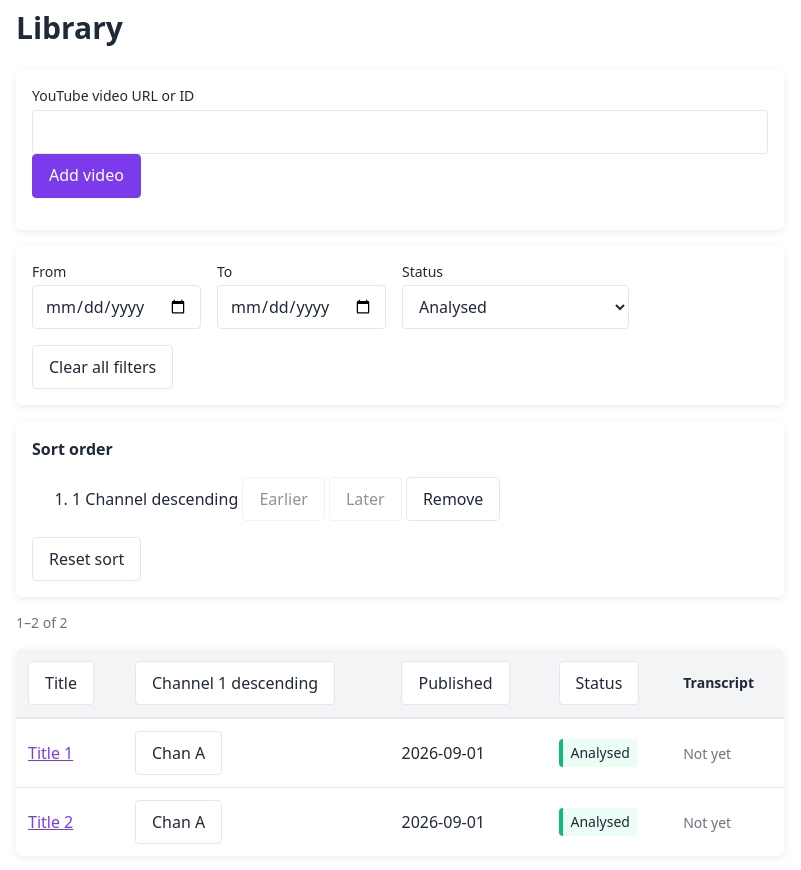
Test: sorting › clear all filters preserves sorting and sorting alone does not show it
Click the button "Clear all filters" at (103, 367), box [32,345,173,389]
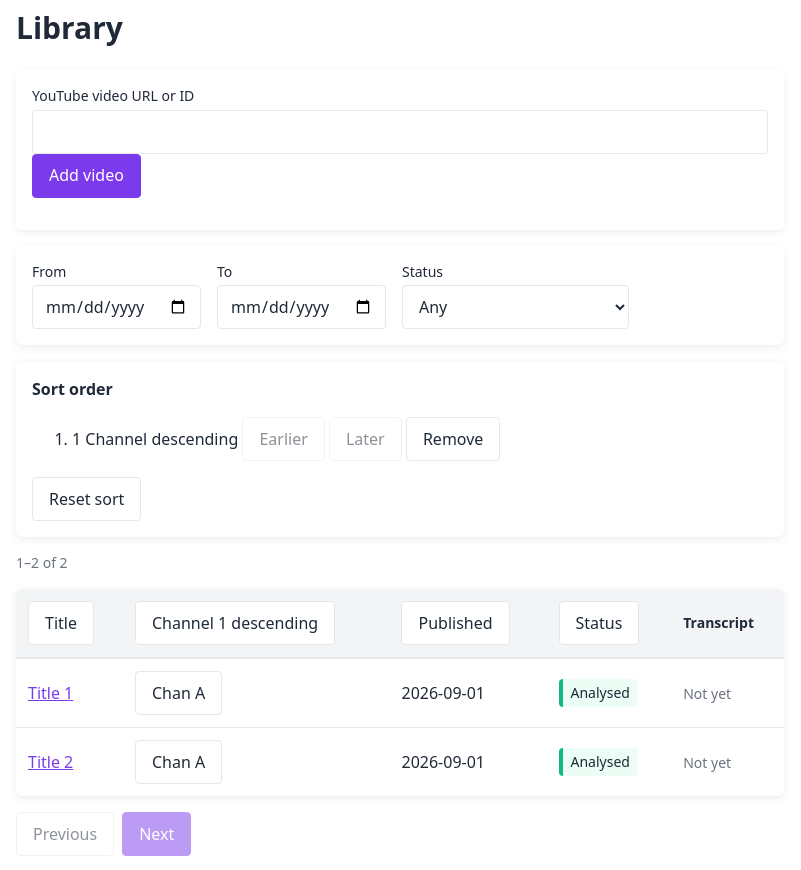
Now the button "Clear all filters" is gone
